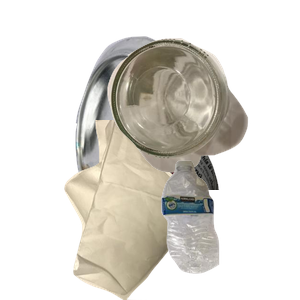glass: (105, 36, 300, 201)
metal: (73, 34, 285, 214)
plastic: (159, 158, 300, 300)
trash: (62, 120, 251, 300)
